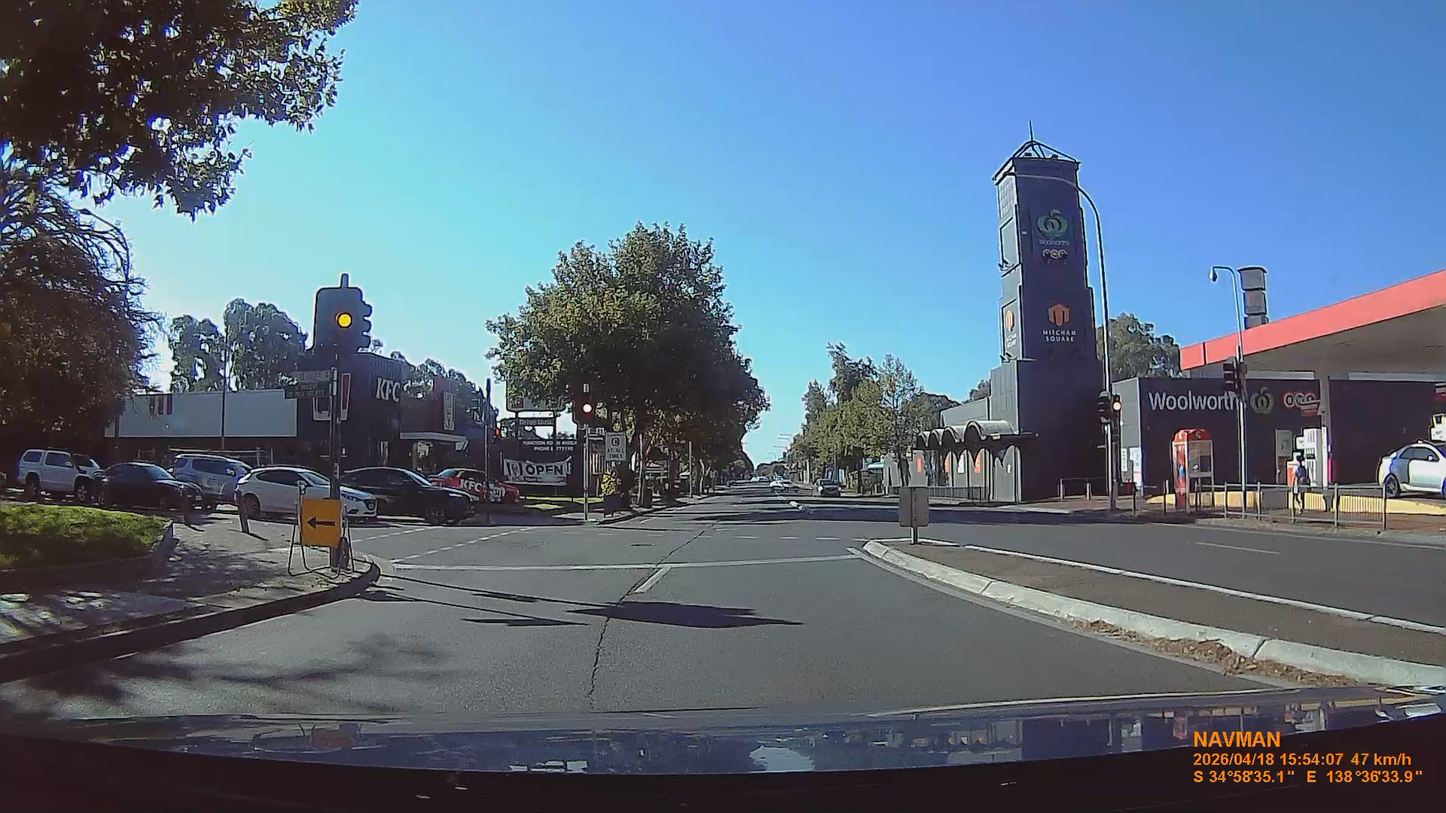fences: (1325, 485, 1391, 531), (927, 485, 987, 503), (603, 491, 622, 517)
